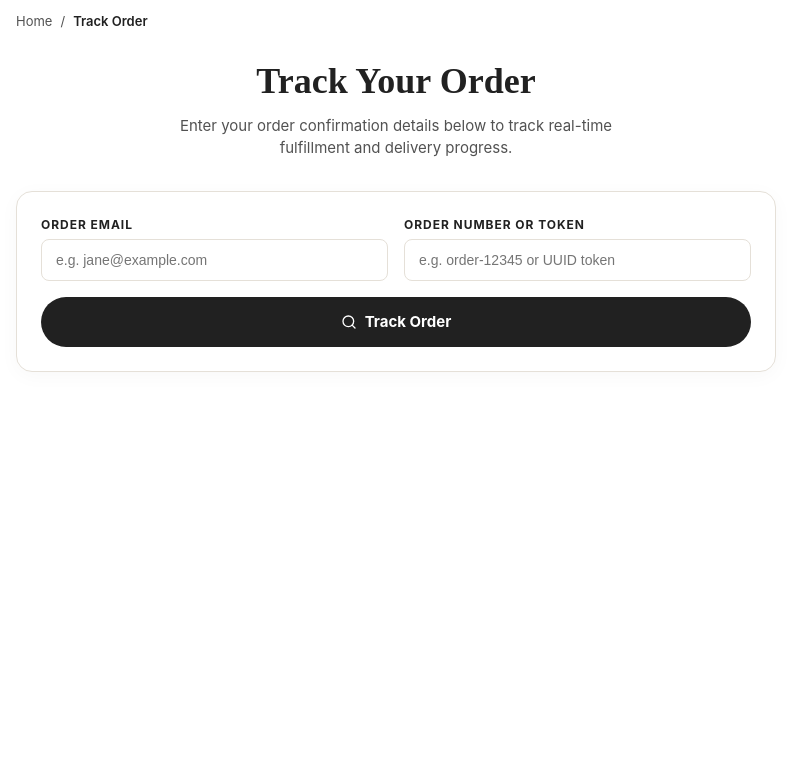
OrderTrackingView › performs lookup and displays order details with progress stepper
Type "customer@example.com" into the field labelled "Order Email". click: [214, 260]
box: [41, 239, 388, 281]
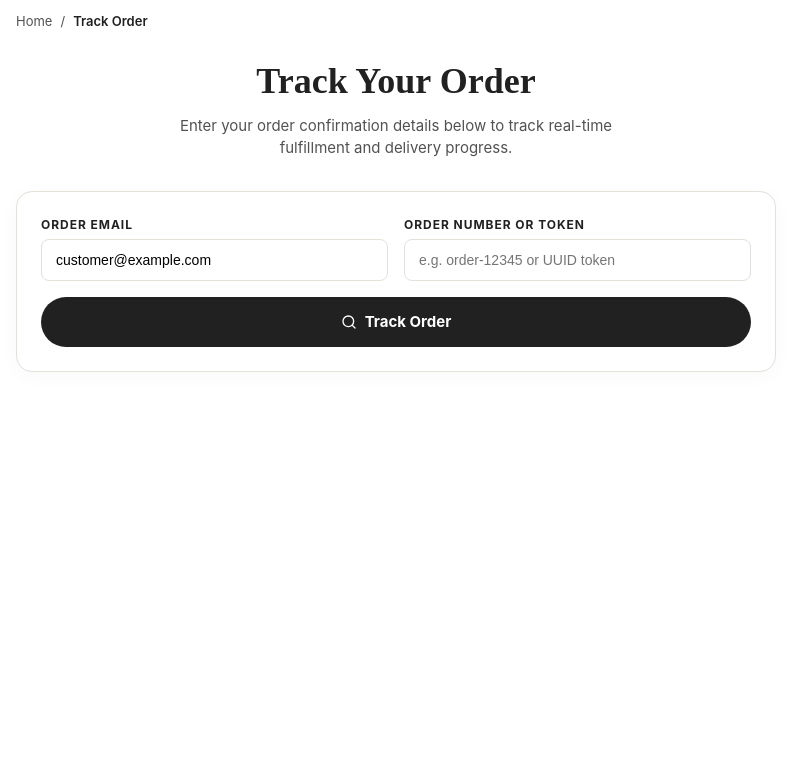
Type "ord-test-12345" into the field labelled "Order Number or Token". click: [578, 260]
box: [404, 239, 751, 281]
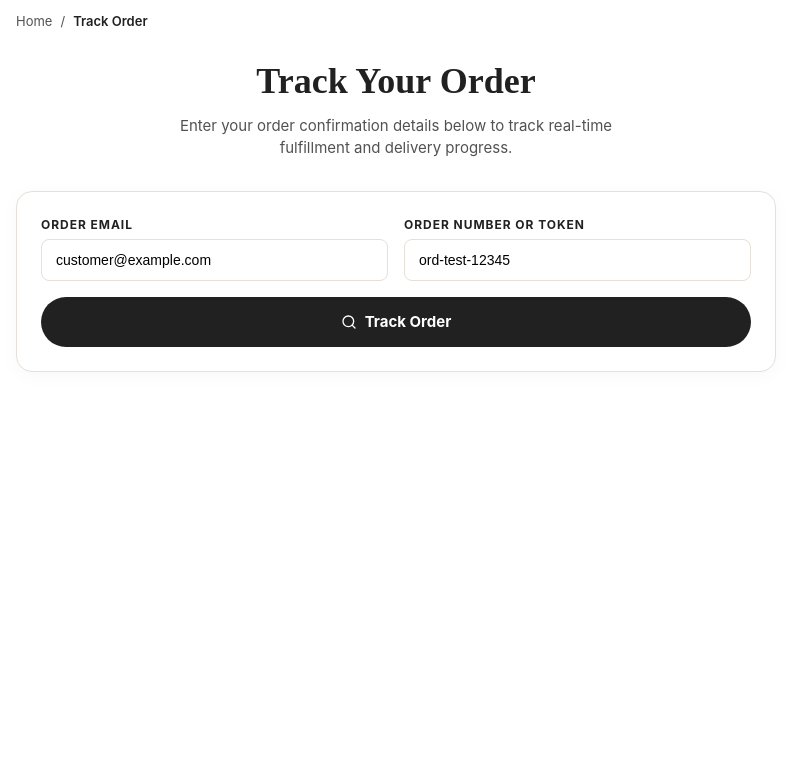
Click the button "Track Order". click: [396, 322]
box: [41, 297, 751, 347]
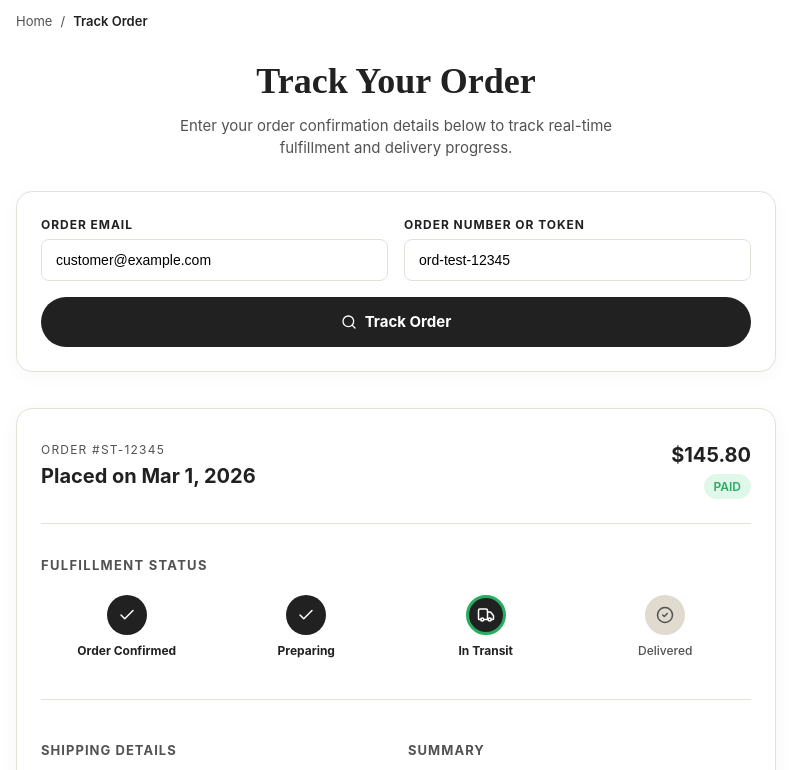
Check: the text "Order #ST-12345" is shown, box [41, 442, 165, 457]
Check: the text "$145.80" is shown, box [671, 441, 751, 470]
Check: the text "In Transit" is shown, box [458, 643, 513, 659]
